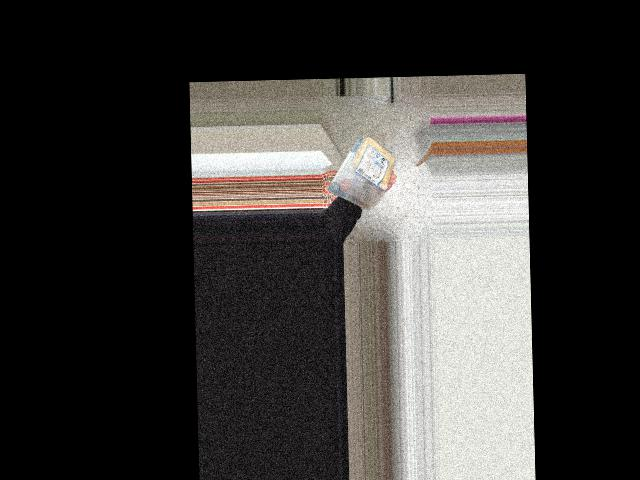cheese: (331, 132, 397, 209)
